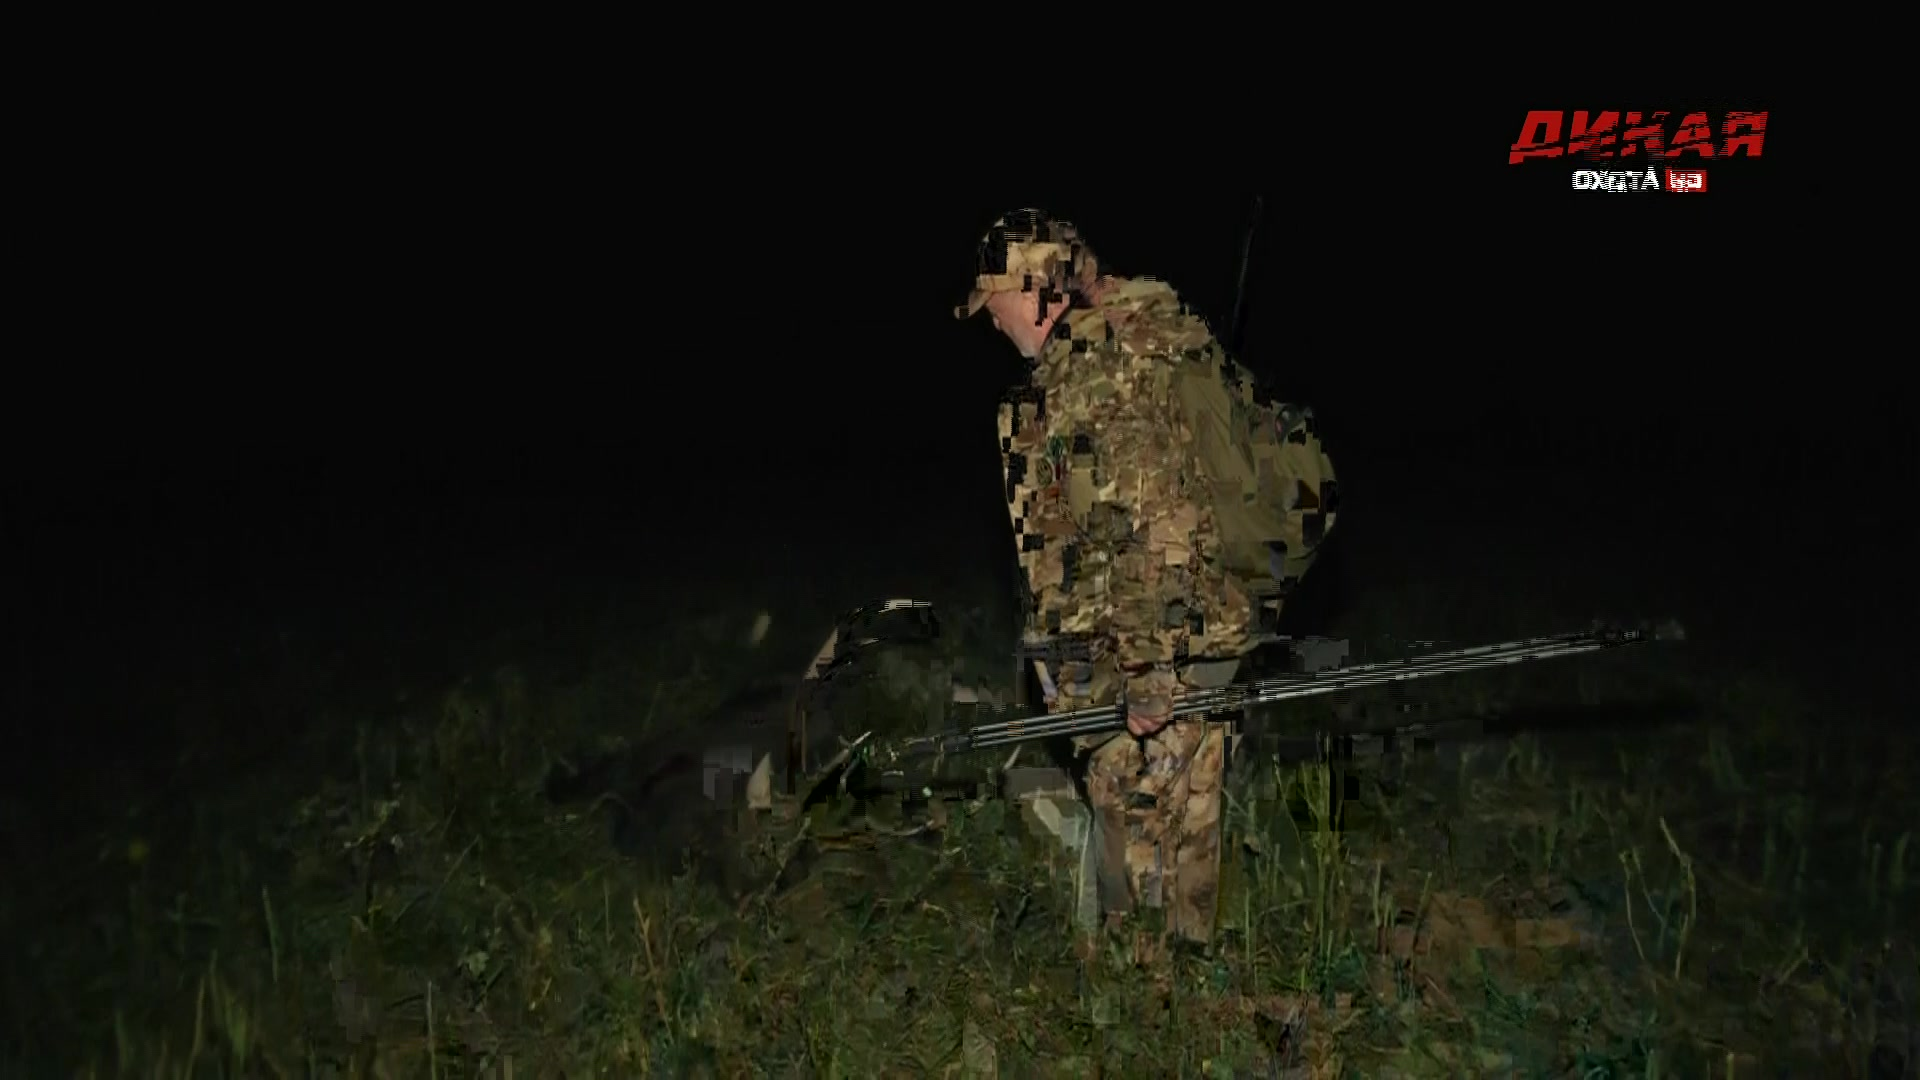Dikaya_Ohota_HD: (1501, 104, 1779, 199)
